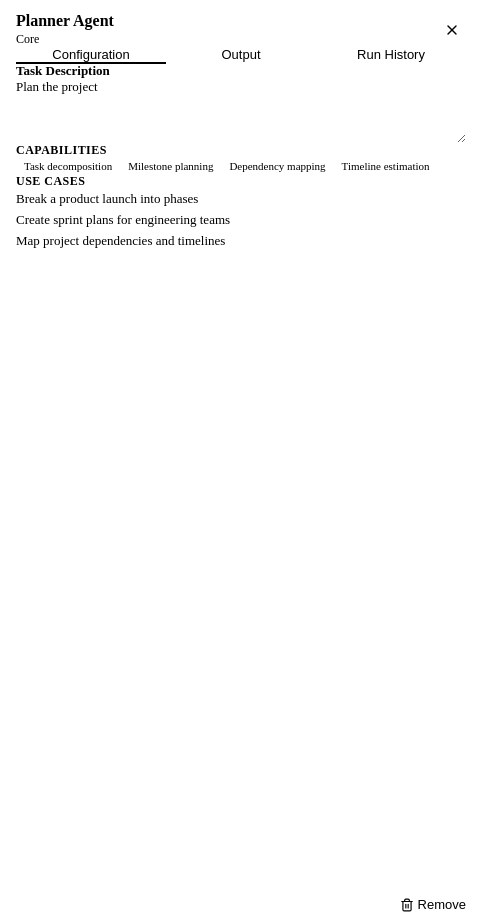
it: NodeConfigPanel › switches to run history tab
Click the tab "Run History": (391, 56) [316,47,466,64]
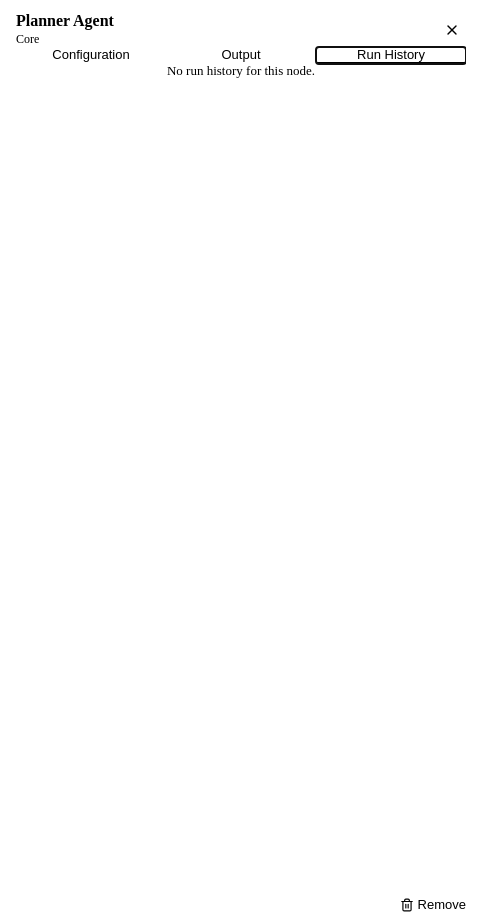
Now the text "No run history for this node." is shown, box [167,63,315,78]
